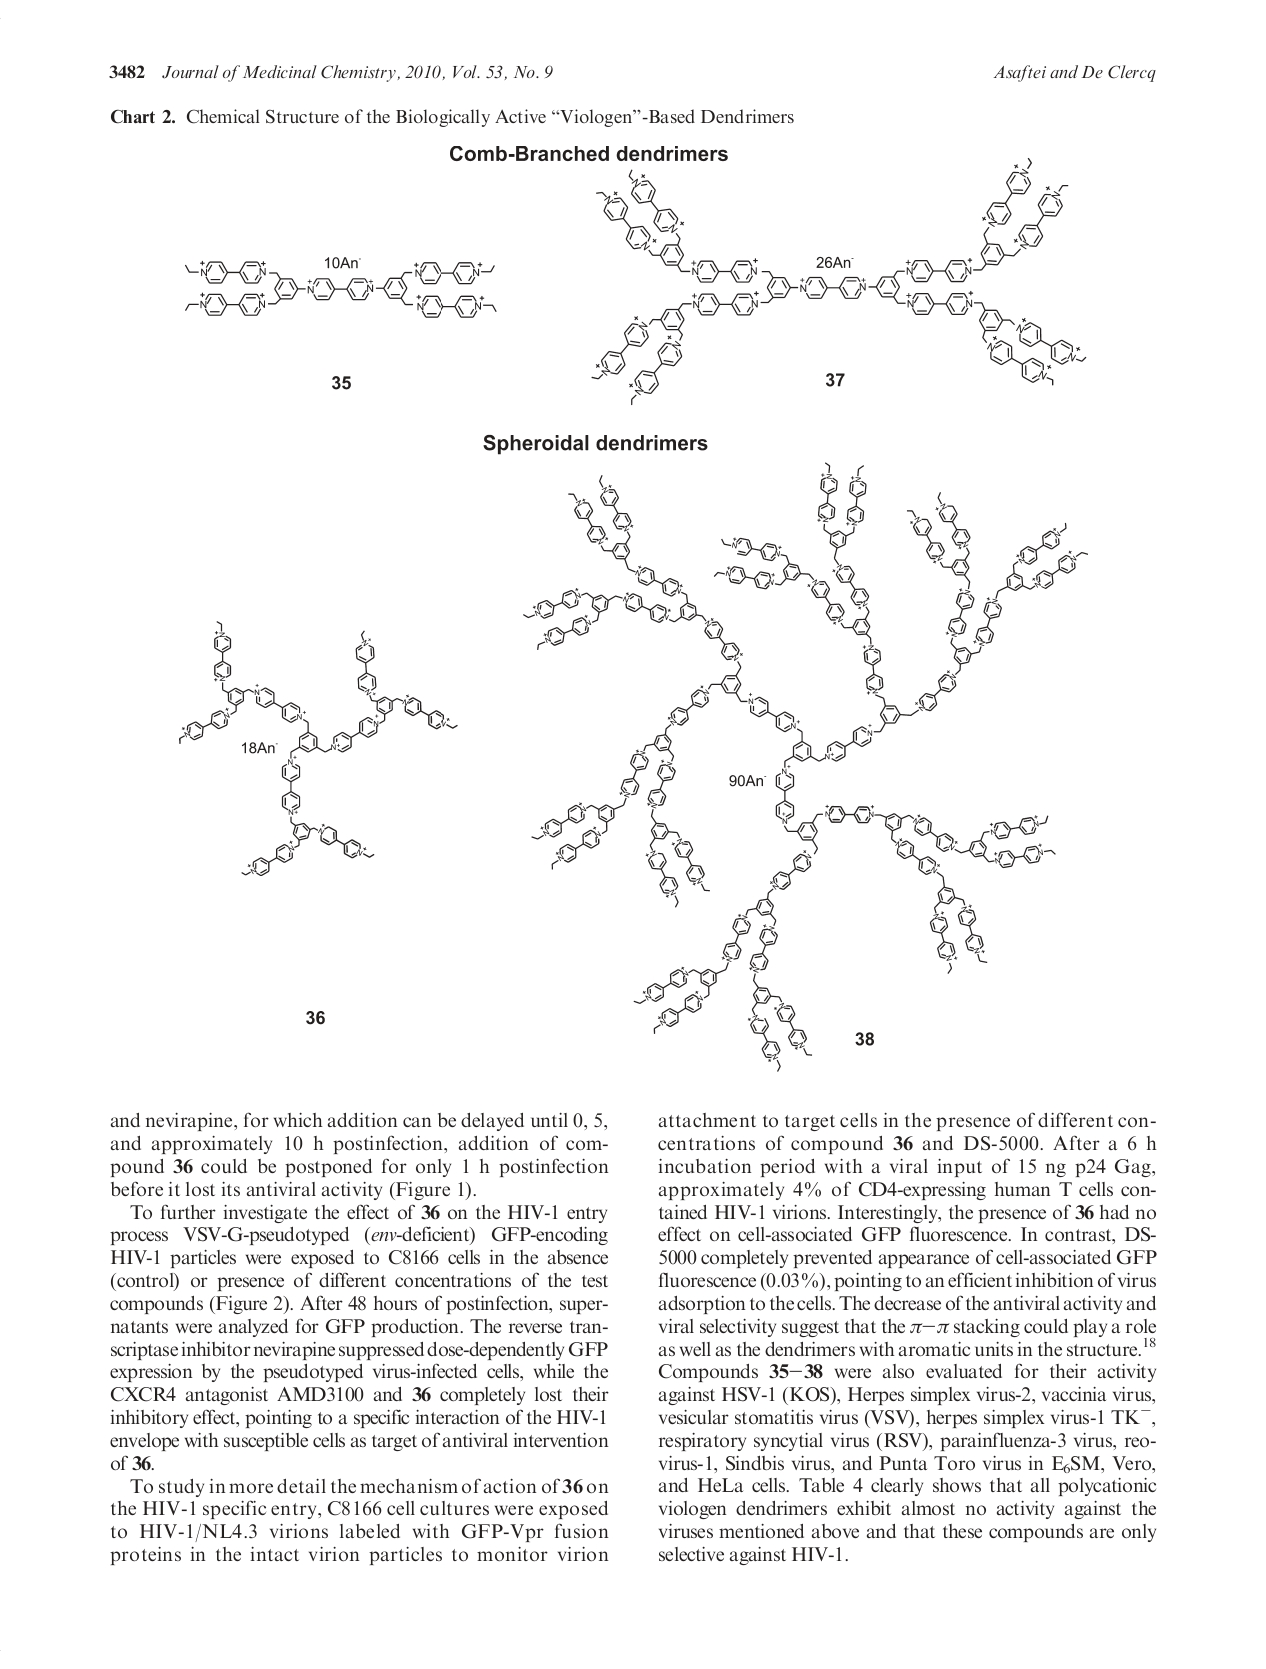exist_molecular: (516, 461, 1130, 1079), (582, 152, 1096, 415), (173, 612, 463, 880), (178, 247, 504, 332)
